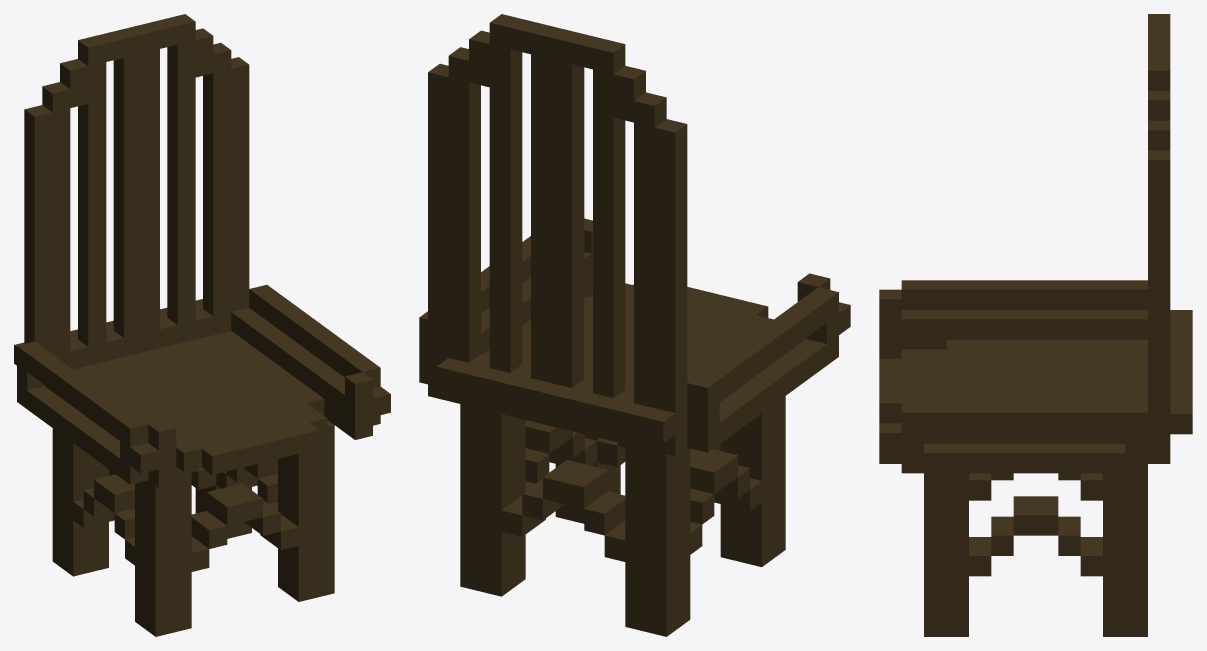
Rendered from prop_chair_dark_brown.glb.
3 renders of one model, left to right at view 1: azimuth 30°, elevation 25°; view 2: azimuth 150°, elevation 25°; view 3: azimuth 270°, elevation 25°, orthographic. The views are drawn at different scales.
Visible parts, largest first — view 1: prop_chair_dark_brown; view 2: prop_chair_dark_brown; view 3: prop_chair_dark_brown.
Part boxes in pixels (x1=…): prop_chair_dark_brown: x1=14, y1=14, x2=390, y2=636; prop_chair_dark_brown: x1=419, y1=14, x2=850, y2=636; prop_chair_dark_brown: x1=879, y1=14, x2=1192, y2=636.
Size of the model in its own units: 1.4 by 2.7 by 1.4.
Materials: 1 (1 with a texture image).
